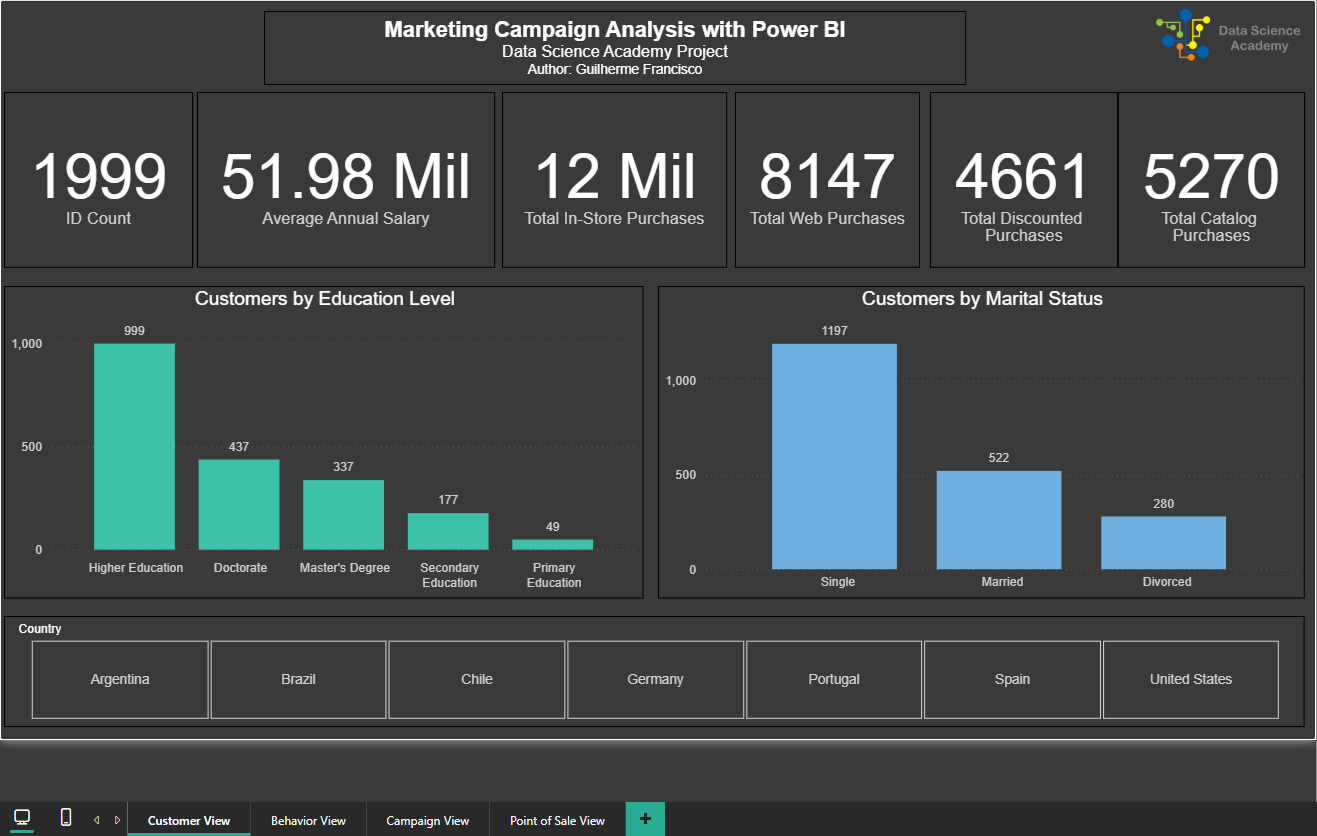

This screenshot's page, from the dashboard's own definition file:
{"tool":"powerbi","page":{"name":"Customer View","canvas":[1280,720],"ordinal":0},"visuals":[{"type":"card","fields":{"Values":["CountNonNull(Projeto 1.ID)"]},"box":[3.9,89.5,183.8,171.2],"z":0},{"type":"card","fields":{"Values":["Avg(Projeto 1.Salario Anual)"]},"box":[191.6,89.5,289.8,171.2],"z":1000},{"type":"card","fields":{"Values":["Sum(Projeto 1.Numero de Compras na Loja)"]},"box":[488.3,89.5,218.8,171.2],"z":2000},{"type":"card","fields":{"Values":["Sum(Projeto 1.Numero de Compras na Web)"]},"box":[714.9,89.5,179.9,171.2],"z":3000},{"type":"card","fields":{"Values":["Sum(Projeto 1.Numero de Compras via Catalogo)"]},"box":[1087.4,89.5,181.9,171.2],"z":4000},{"type":"columnChart","title":"Customers by Education Level","fields":{"Category":["Projeto 1.Education Level"],"Y":["CountNonNull(Projeto 1.ID)"]},"box":[3.9,278.2,622.5,304.4],"z":5000},{"type":"columnChart","title":"Customers by Marital Status","fields":{"Category":["Projeto 1.Estado Civil"],"Y":["CountNonNull(Projeto 1.ID)"]},"box":[640,278.2,629.3,304.4],"z":6000},{"type":"card","fields":{"Values":["Sum(Projeto 1.Numero de Compras com Desconto)"]},"box":[904.6,89.5,182.9,171.2],"z":7000},{"type":"textbox","box":[256.8,10.7,682.8,72],"z":8000},{"type":"slicer","fields":{"Values":["Projeto 1.Pais"]},"box":[3.9,599.1,1265.4,108],"z":9000},{"type":"image","box":[1119.5,0,149.8,67.1],"z":10000}]}

Visuals, with their boxes on the page's 1280x720 design canvas (x1, y1, x2, y2). These are canvas units, not pixel positions in the 1317x836 screenshot, which may show the page scaled, cropped or inside an application window:
card - CountNonNull(Projeto 1.ID): 4:90:188:261
card - Avg(Projeto 1.Salario Anual): 192:90:481:261
card - Sum(Projeto 1.Numero de Compras na Loja): 488:90:707:261
card - Sum(Projeto 1.Numero de Compras na Web): 715:90:895:261
card - Sum(Projeto 1.Numero de Compras via Catalogo): 1087:90:1269:261
"Customers by Education Level" columnChart: 4:278:626:583
"Customers by Marital Status" columnChart: 640:278:1269:583
card - Sum(Projeto 1.Numero de Compras com Desconto): 905:90:1088:261
textbox: 257:11:940:83
slicer - Projeto 1.Pais: 4:599:1269:707
image: 1120:0:1269:67
